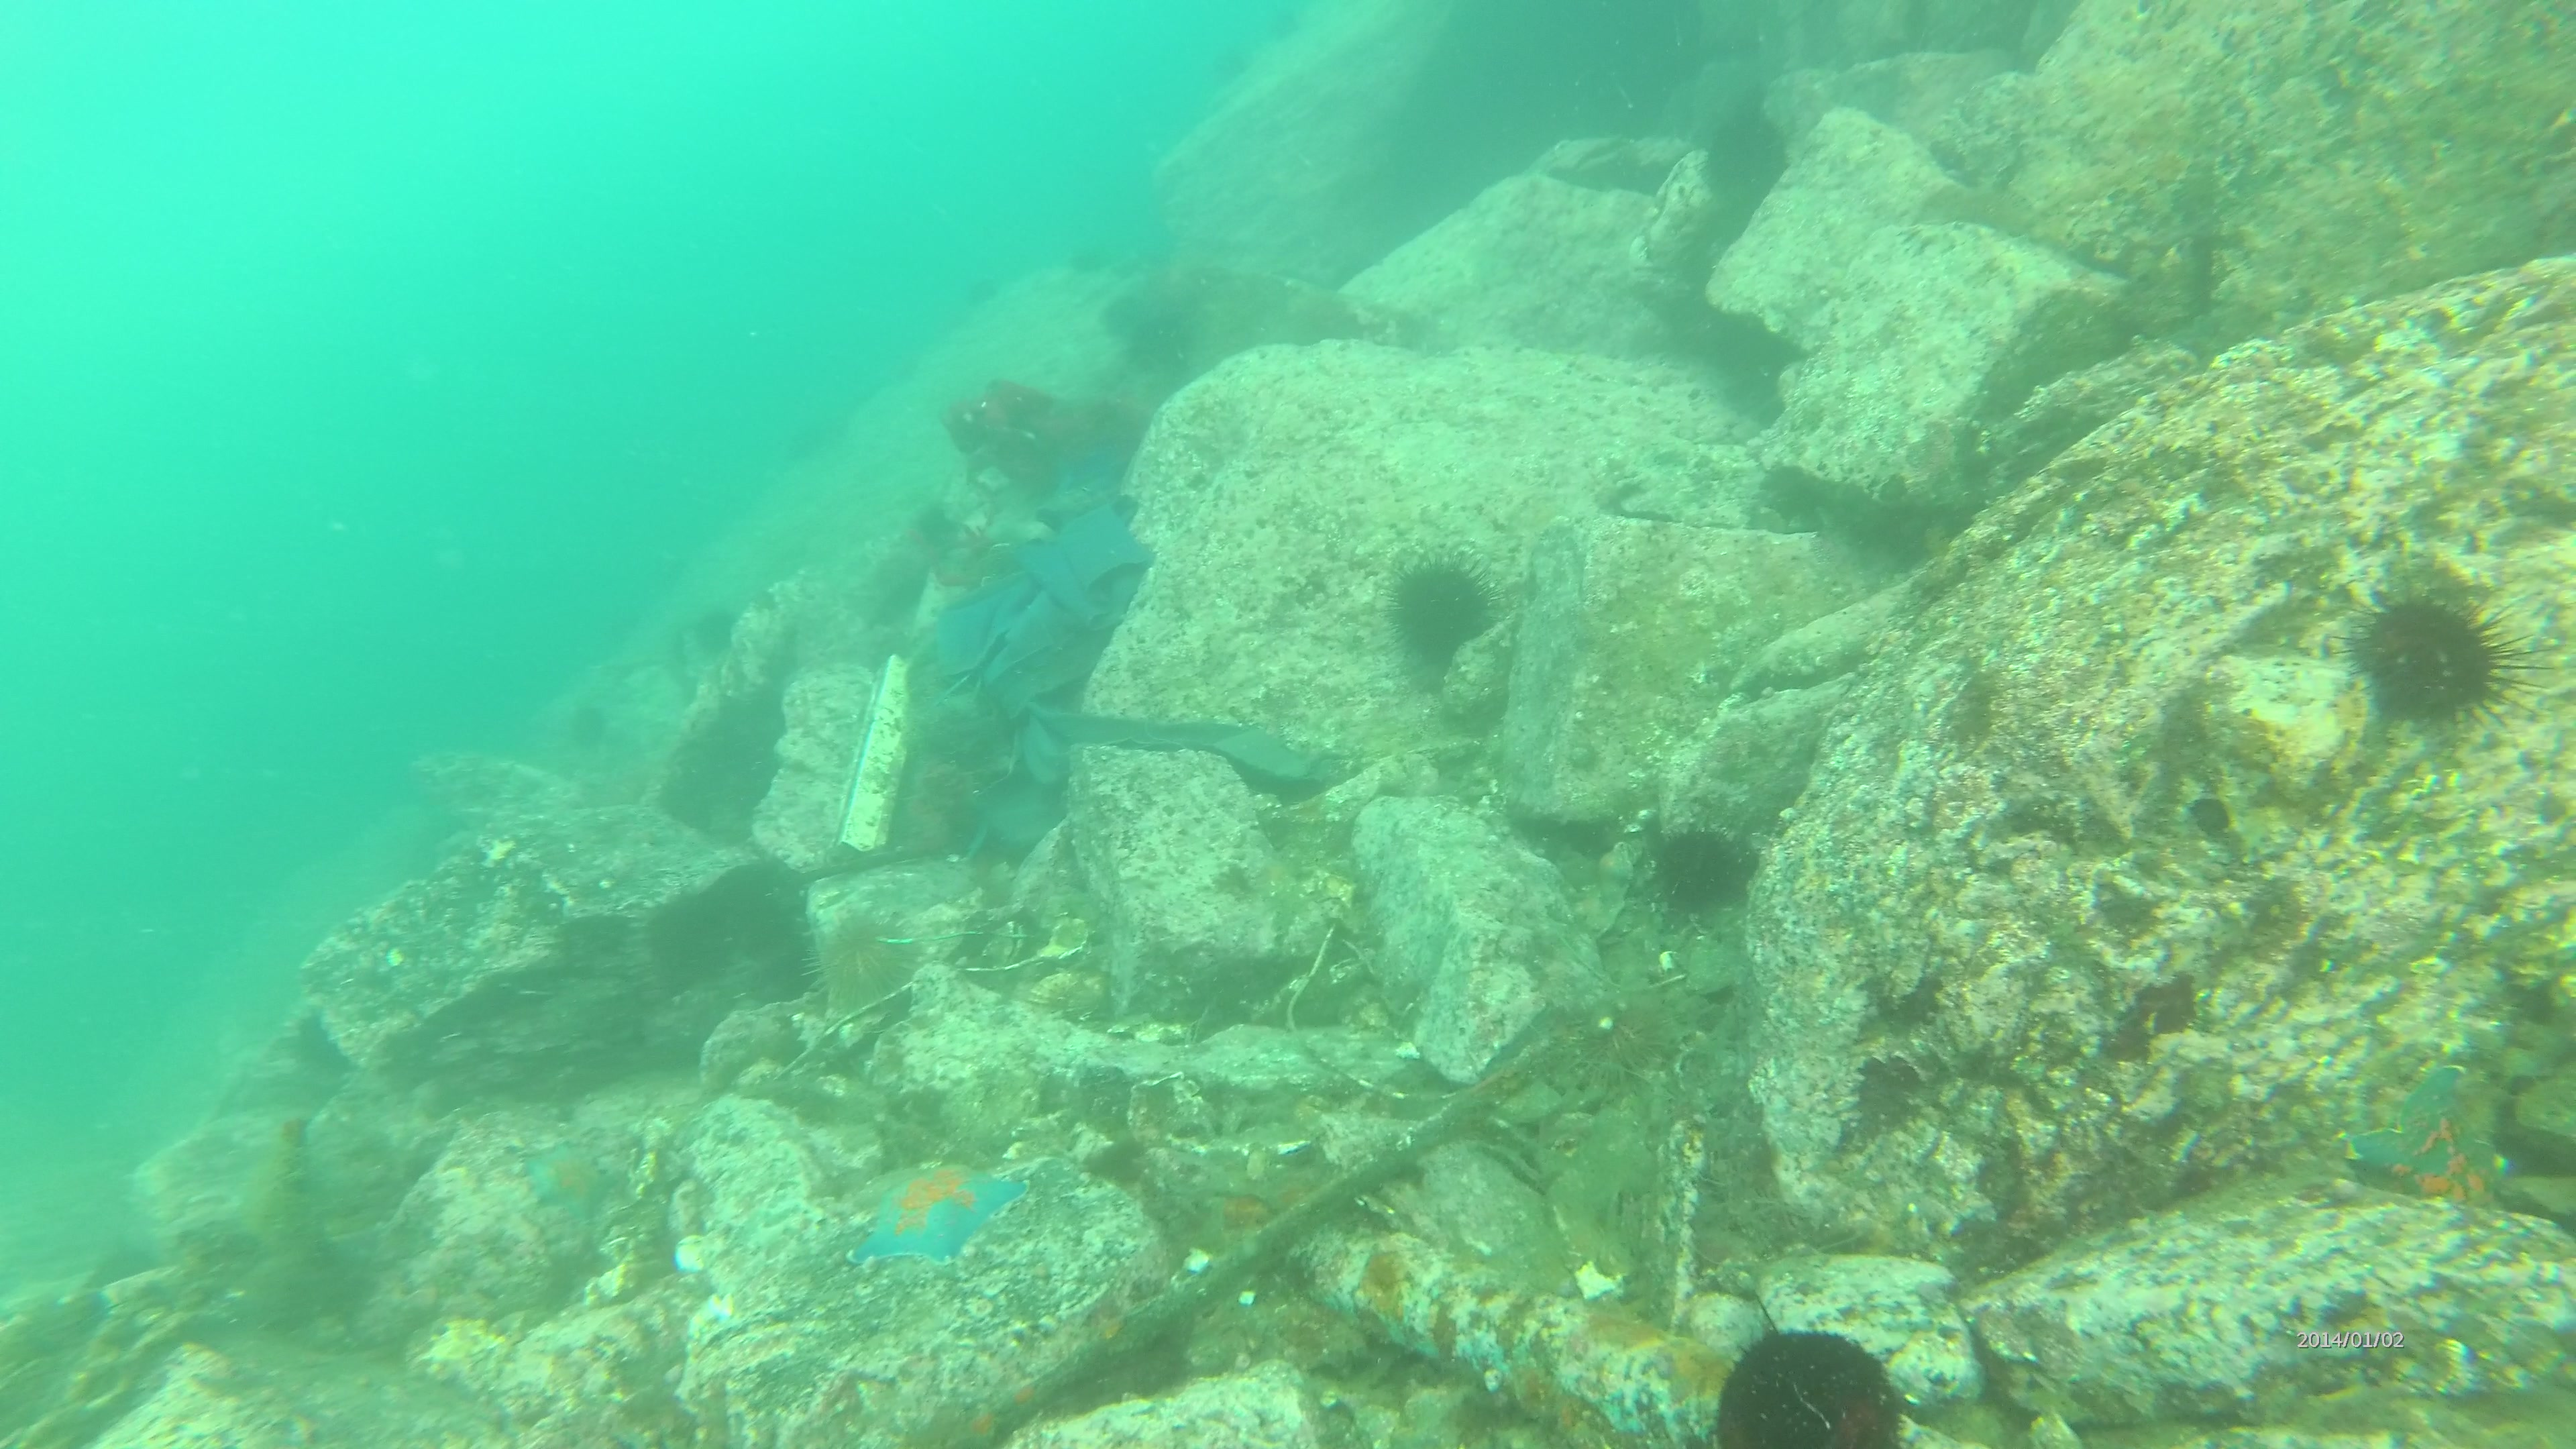echinus: (2346, 577, 2541, 736), (1713, 1316, 1918, 1449), (1376, 552, 1506, 667), (1645, 814, 1760, 918), (805, 908, 924, 1003), (1571, 987, 1668, 1079)
scallop: (1024, 970, 1120, 1024)
starfish: (2344, 1060, 2530, 1214), (855, 1157, 1030, 1265), (520, 1136, 617, 1217)
